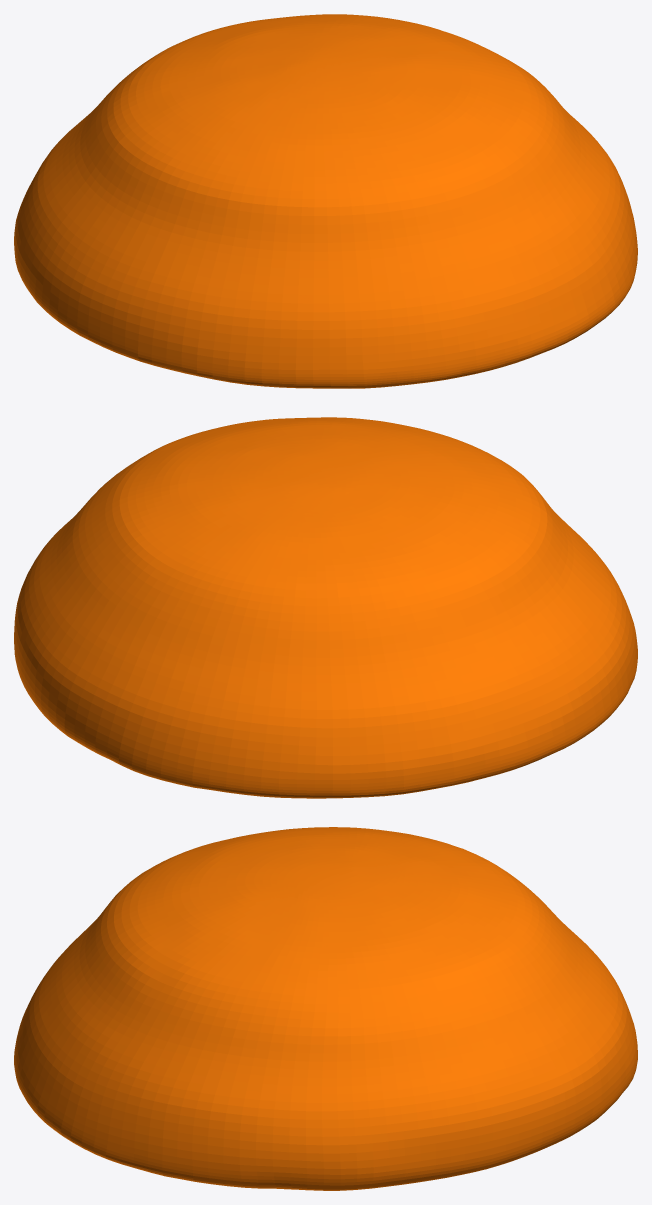
File: topoj.gltf
3 renders of one model, top to bottom at view 1: azimuth 30°, elevation 25°; view 2: azimuth 150°, elevation 25°; view 3: azimuth 270°, elevation 25°, orthographic. The views are drawn at different scales.
Parts seen in each view (by area): view 1: Retopo_middle-top.002; view 2: Retopo_middle-top.002; view 3: Retopo_middle-top.002.
Part boxes in pixels (x1,y1,x2,y2): Retopo_middle-top.002: (14,14,637,388); Retopo_middle-top.002: (14,417,637,798); Retopo_middle-top.002: (14,827,637,1190).
Bounding box in the file's own units: 4.8 × 1.65 × 4.88.
1 material, 1 textured.
